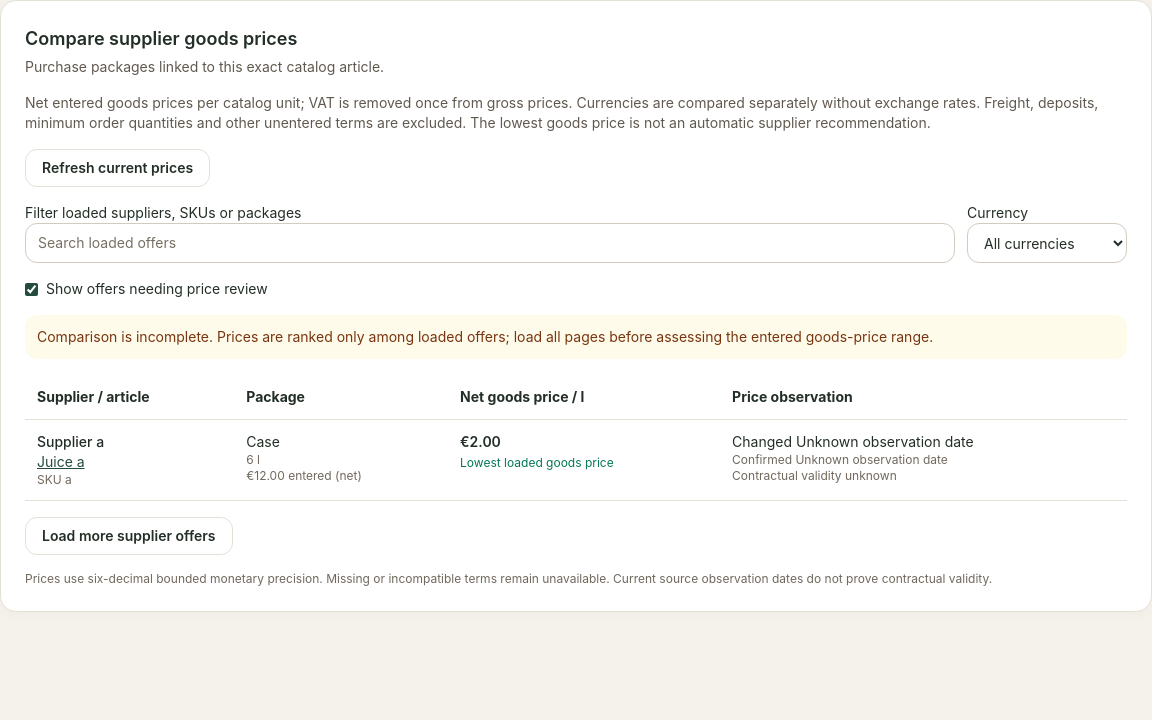
Scenario: supplier price insight workflows › qualifies partial rankings, loads the next bounded page and ranks zero-price offers correctly
Expected: the text "Lowest loaded goods price" is shown, [460,455,614,470]
Expected: the text "Comparison is incomplete" is shown, [37,328,933,345]
Click the button "Load more supplier offers".
click(129, 536)  # box [25,517,232,555]
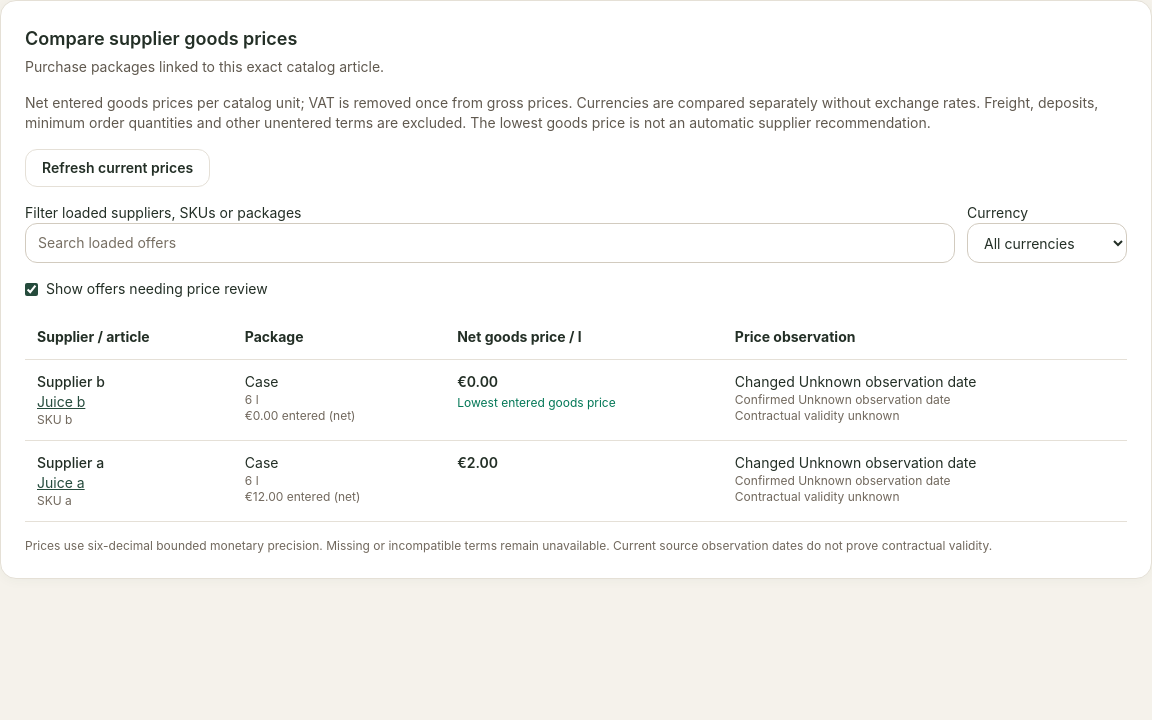
Expected: the text "Lowest entered goods price" is shown once, [457,395,616,410]
Expected: the link "Juice b" is shown, [37,393,85,410]
Expected: the text "Comparison is incomplete" is gone
